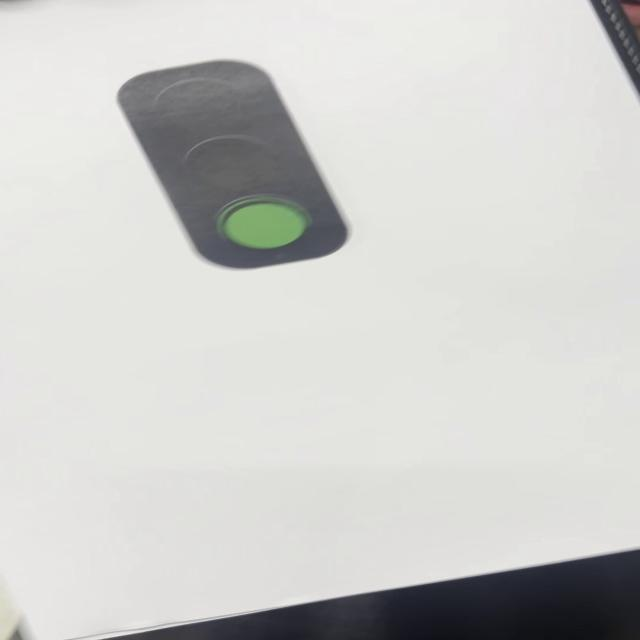green: (115, 58, 355, 272)
